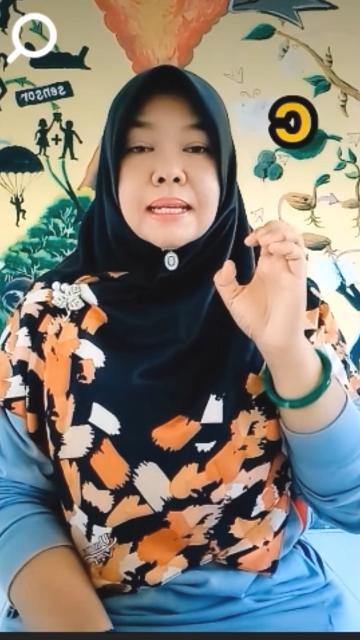C: (213, 216, 309, 368)
